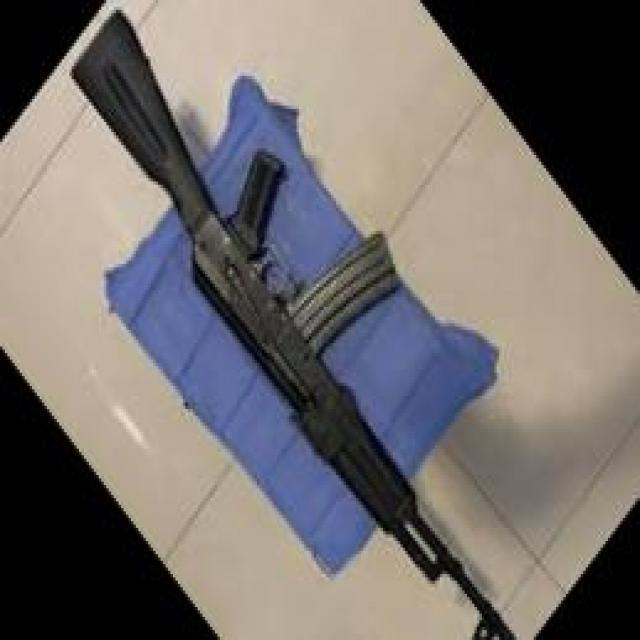weapon: (68, 7, 518, 640)
